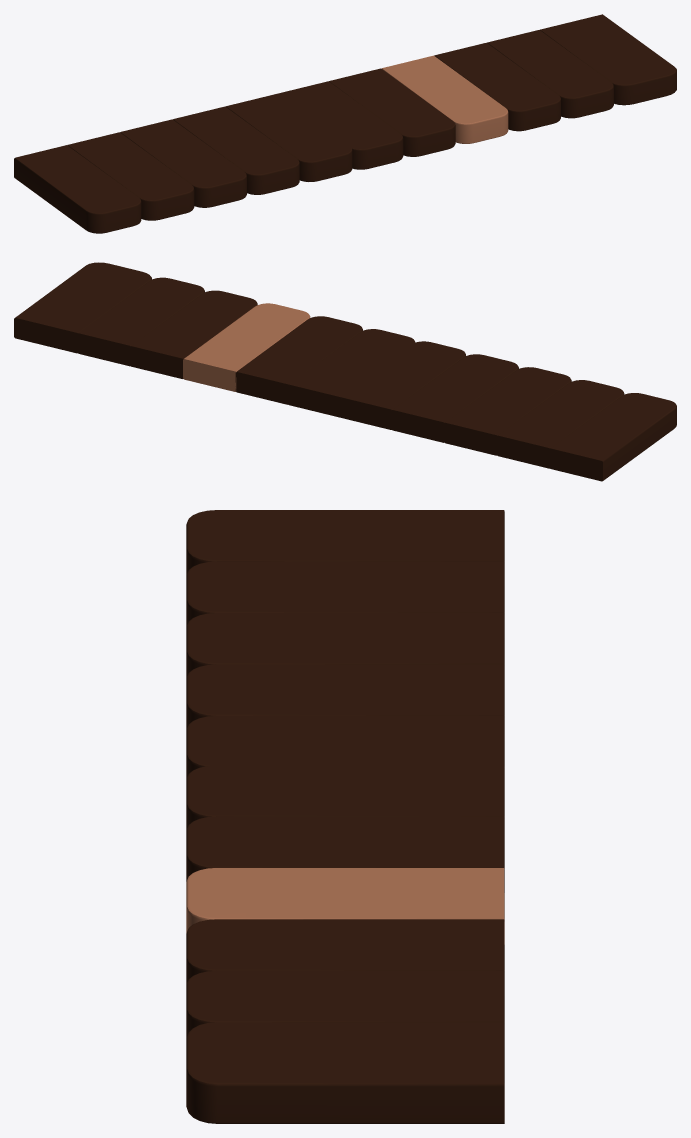
The model's file is WoodPlacksDock.obj.
3 views of the same model, one above another, from view 1: azimuth 30°, elevation 25°; view 2: azimuth 150°, elevation 25°; view 3: azimuth 270°, elevation 25° (orthographic). The views are drawn at different scales.
Visible parts, largest first — view 1: WoodDock_Beam1 AllObjects AllObjects Objects, AllObjects AllObjects Objects WoodDock_Beam11, AllObjects AllObjects Objects WoodDock_Beam2, AllObjects AllObjects Objects WoodDock_Beam8, AllObjects AllObjects Objects WoodDock_Beam10, AllObjects AllObjects Objects WoodDock_Beam4, AllObjects AllObjects Objects WoodDock_Beam3, AllObjects AllObjects Objects WoodDock_Beam9, AllObjects AllObjects Objects WoodDock_Beam5, AllObjects AllObjects Objects WoodDock_Beam7, AllObjects AllObjects Objects WoodDock_Beam6; view 2: WoodDock_Beam1 AllObjects AllObjects Objects, AllObjects AllObjects Objects WoodDock_Beam11, AllObjects AllObjects Objects WoodDock_Beam10, AllObjects AllObjects Objects WoodDock_Beam2, AllObjects AllObjects Objects WoodDock_Beam8, AllObjects AllObjects Objects WoodDock_Beam3, AllObjects AllObjects Objects WoodDock_Beam4, AllObjects AllObjects Objects WoodDock_Beam9, AllObjects AllObjects Objects WoodDock_Beam5, AllObjects AllObjects Objects WoodDock_Beam7, AllObjects AllObjects Objects WoodDock_Beam6; view 3: AllObjects AllObjects Objects WoodDock_Beam11, AllObjects AllObjects Objects WoodDock_Beam10, AllObjects AllObjects Objects WoodDock_Beam3, AllObjects AllObjects Objects WoodDock_Beam4, AllObjects AllObjects Objects WoodDock_Beam9, AllObjects AllObjects Objects WoodDock_Beam8, WoodDock_Beam1 AllObjects AllObjects Objects, AllObjects AllObjects Objects WoodDock_Beam7, AllObjects AllObjects Objects WoodDock_Beam2, AllObjects AllObjects Objects WoodDock_Beam6, AllObjects AllObjects Objects WoodDock_Beam5.
Part boxes in pixels (x1=…): WoodDock_Beam1 AllObjects AllObjects Objects: x1=14, y1=145, x2=141, y2=233; AllObjects AllObjects Objects WoodDock_Beam11: x1=540, y1=14, x2=676, y2=105; AllObjects AllObjects Objects WoodDock_Beam2: x1=67, y1=132, x2=194, y2=220; AllObjects AllObjects Objects WoodDock_Beam8: x1=381, y1=55, x2=508, y2=143; AllObjects AllObjects Objects WoodDock_Beam10: x1=487, y1=30, x2=613, y2=118; AllObjects AllObjects Objects WoodDock_Beam4: x1=173, y1=106, x2=299, y2=194; AllObjects AllObjects Objects WoodDock_Beam3: x1=120, y1=119, x2=246, y2=207; AllObjects AllObjects Objects WoodDock_Beam9: x1=434, y1=42, x2=560, y2=131; AllObjects AllObjects Objects WoodDock_Beam5: x1=225, y1=93, x2=352, y2=181; AllObjects AllObjects Objects WoodDock_Beam7: x1=329, y1=68, x2=455, y2=156; AllObjects AllObjects Objects WoodDock_Beam6: x1=278, y1=81, x2=403, y2=169; WoodDock_Beam1 AllObjects AllObjects Objects: x1=549, y1=393, x2=676, y2=481; AllObjects AllObjects Objects WoodDock_Beam11: x1=14, y1=262, x2=151, y2=353; AllObjects AllObjects Objects WoodDock_Beam10: x1=77, y1=277, x2=204, y2=366; AllObjects AllObjects Objects WoodDock_Beam2: x1=496, y1=380, x2=624, y2=468; AllObjects AllObjects Objects WoodDock_Beam8: x1=183, y1=303, x2=310, y2=391; AllObjects AllObjects Objects WoodDock_Beam3: x1=444, y1=367, x2=571, y2=455; AllObjects AllObjects Objects WoodDock_Beam4: x1=391, y1=354, x2=518, y2=442; AllObjects AllObjects Objects WoodDock_Beam9: x1=130, y1=290, x2=257, y2=378; AllObjects AllObjects Objects WoodDock_Beam5: x1=338, y1=341, x2=465, y2=429; AllObjects AllObjects Objects WoodDock_Beam7: x1=235, y1=316, x2=362, y2=404; AllObjects AllObjects Objects WoodDock_Beam6: x1=288, y1=329, x2=415, y2=417; AllObjects AllObjects Objects WoodDock_Beam11: x1=186, y1=1022, x2=504, y2=1123; AllObjects AllObjects Objects WoodDock_Beam10: x1=186, y1=970, x2=504, y2=1046; AllObjects AllObjects Objects WoodDock_Beam3: x1=186, y1=613, x2=504, y2=689; AllObjects AllObjects Objects WoodDock_Beam4: x1=186, y1=664, x2=504, y2=740; AllObjects AllObjects Objects WoodDock_Beam9: x1=186, y1=919, x2=504, y2=995; AllObjects AllObjects Objects WoodDock_Beam8: x1=186, y1=868, x2=504, y2=944; WoodDock_Beam1 AllObjects AllObjects Objects: x1=186, y1=510, x2=504, y2=586; AllObjects AllObjects Objects WoodDock_Beam7: x1=186, y1=816, x2=504, y2=892; AllObjects AllObjects Objects WoodDock_Beam2: x1=186, y1=561, x2=504, y2=637; AllObjects AllObjects Objects WoodDock_Beam6: x1=186, y1=765, x2=504, y2=852; AllObjects AllObjects Objects WoodDock_Beam5: x1=186, y1=716, x2=504, y2=804.
Bounding box in the file's own units: 6.01 × 0.2018 × 1.41.
